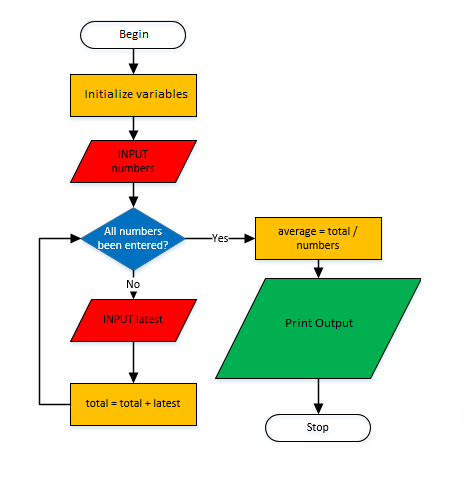arrow: (35, 232, 85, 407), (183, 234, 254, 245), (311, 378, 326, 415), (128, 338, 139, 386), (127, 46, 142, 74), (127, 269, 141, 299), (127, 180, 140, 209), (127, 113, 140, 140), (313, 259, 325, 278)
data: (212, 275, 421, 381), (67, 138, 199, 185), (67, 297, 199, 343)
process: (69, 379, 201, 428), (67, 71, 199, 120), (253, 215, 384, 262)
terminator: (78, 19, 187, 53), (262, 412, 372, 445)
text: (277, 226, 360, 250), (96, 225, 171, 251), (82, 88, 187, 100), (109, 148, 156, 174), (84, 398, 183, 409), (284, 317, 353, 330), (101, 312, 164, 324), (118, 27, 150, 43), (305, 420, 328, 435), (210, 232, 230, 243), (124, 278, 142, 288)
